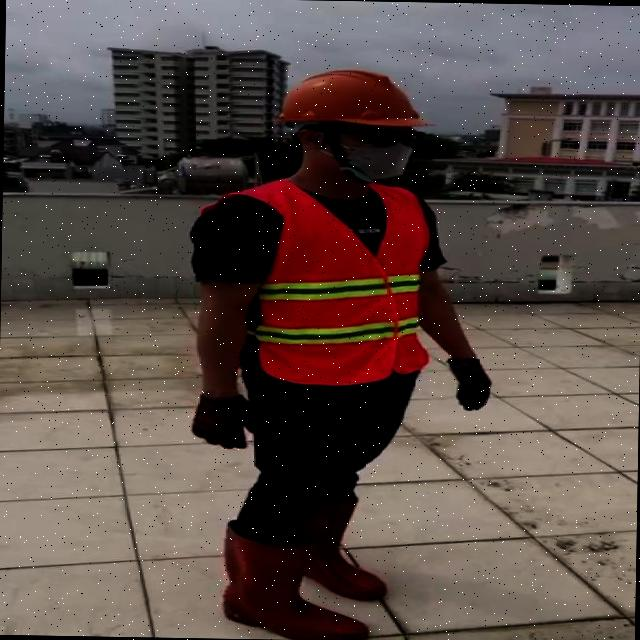boots: (218, 523, 368, 640), (296, 496, 388, 600)
